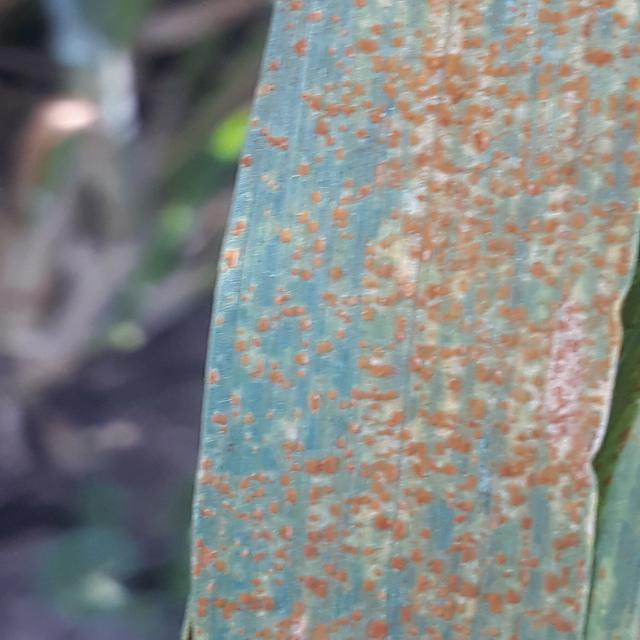orang_rust: (177, 2, 640, 640)
